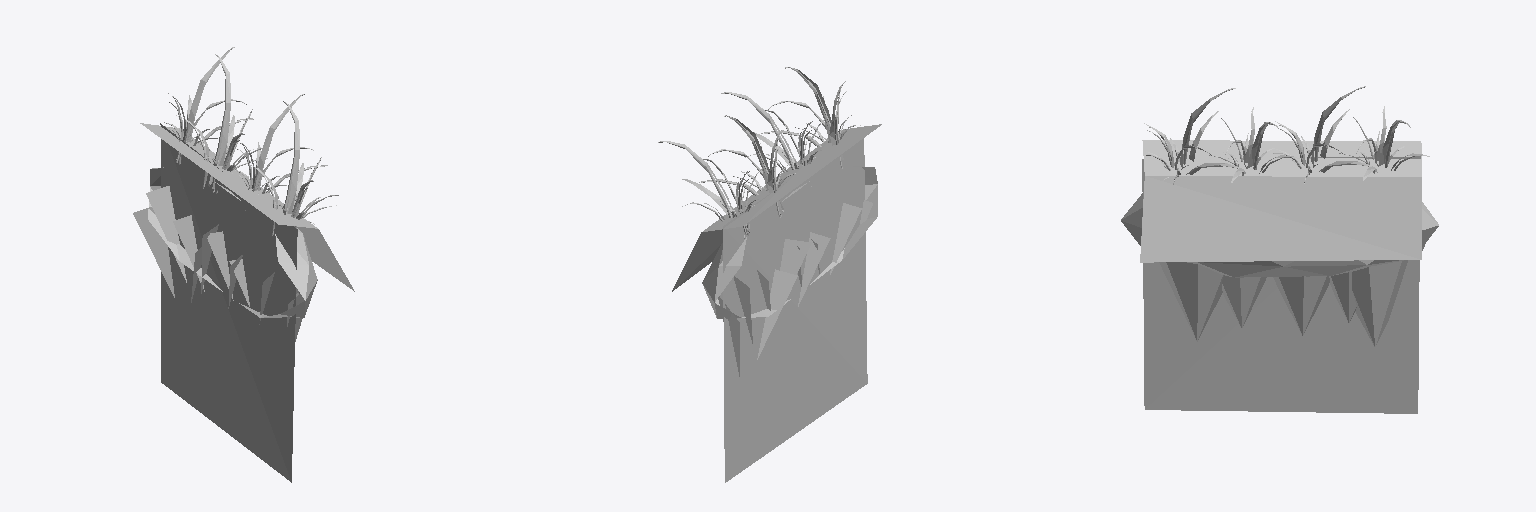
Rendered from wall_vegetation_mess.obj.
3 views of the same model, side by side, from view 1: azimuth 30°, elevation 25°; view 2: azimuth 150°, elevation 25°; view 3: azimuth 270°, elevation 25° (orthographic).
Parts seen in each view (by area): view 1: Cone.004; view 2: Cone.004; view 3: Cone.004.
Boxes of the visible parts, x1,y1,x2,y2 form: Cone.004: [133, 47, 354, 482]; Cone.004: [658, 67, 881, 482]; Cone.004: [1121, 86, 1438, 413].
Size of the model in its own units: 0.8052 by 2.7 by 2.28.